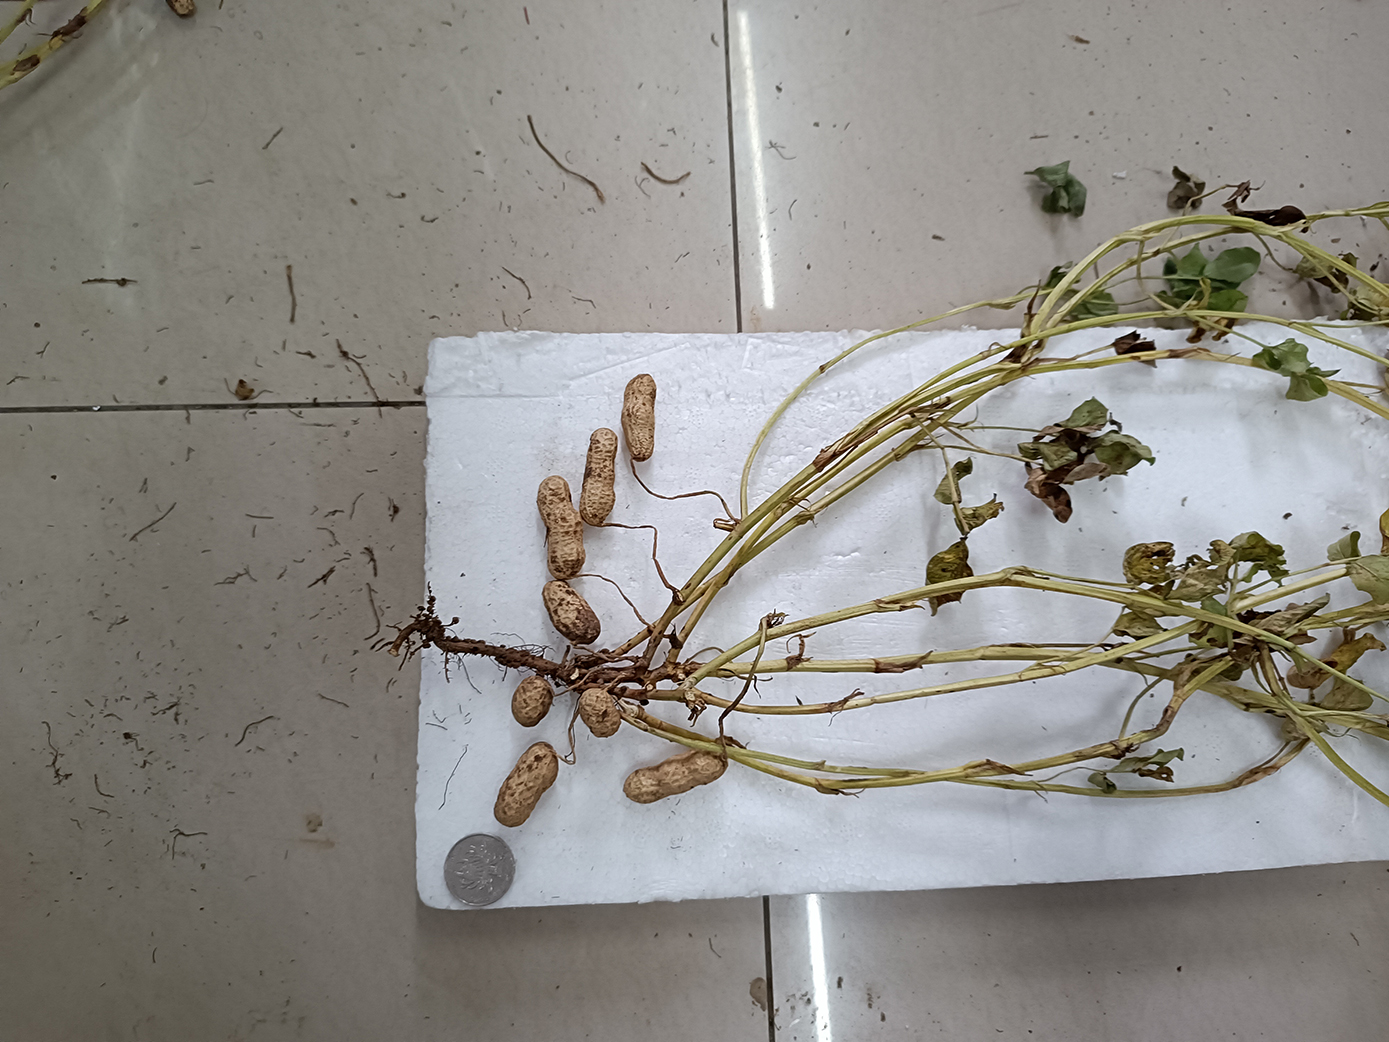h: (625, 749, 729, 804), (495, 740, 559, 827), (537, 477, 584, 580), (577, 427, 620, 526), (541, 579, 601, 645), (620, 373, 657, 463), (577, 687, 621, 738), (511, 678, 554, 728)
